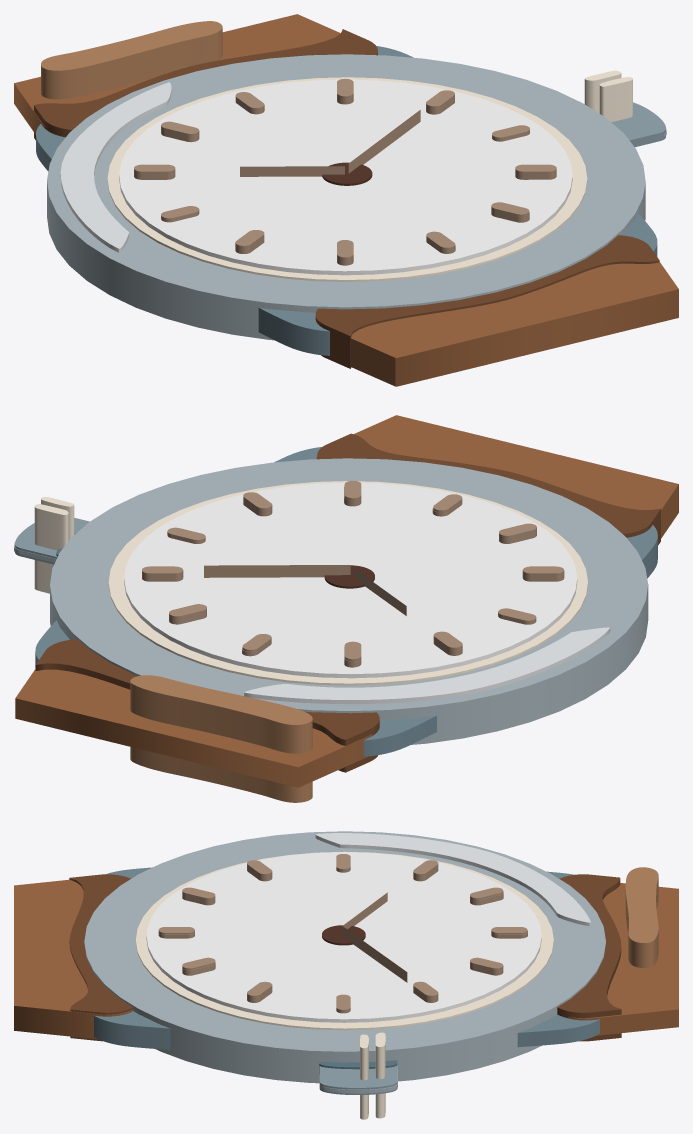
File: emoji_u231a.glb
The picture shows the model from 3 angles, top to bottom: view 1: azimuth 30°, elevation 25°; view 2: azimuth 150°, elevation 25°; view 3: azimuth 270°, elevation 25°; orthographic projection. The views are drawn at different scales.
Visible parts, largest first — view 1: emoji_u231a; view 2: emoji_u231a; view 3: emoji_u231a.
Boxes of the visible parts, x1,y1,x2,y2 form: emoji_u231a: (14, 14, 678, 386); emoji_u231a: (14, 415, 678, 802); emoji_u231a: (14, 831, 678, 1119).
Size of the model in its own units: 0.0293 by 0.004 by 0.0337.
